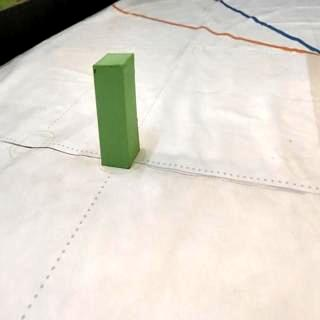greenbox: (92, 53, 140, 169)
